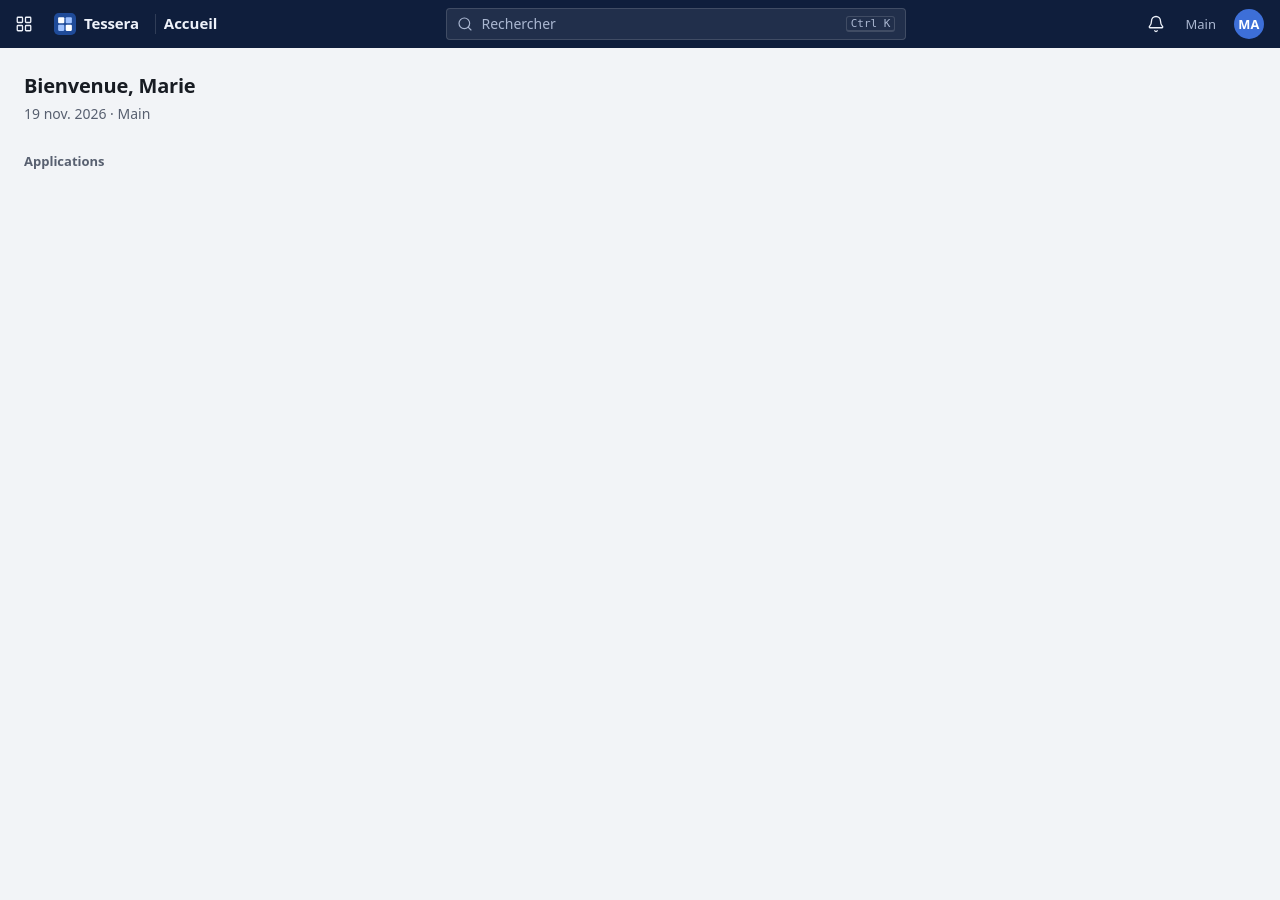
Test: French UI › switches to the session language once signed in
Check: the heading "Bienvenue, Marie" is shown, box [24, 72, 196, 100]
Click the button with aria-label "Marie" at (1249, 24), box [1226, 4, 1272, 44]
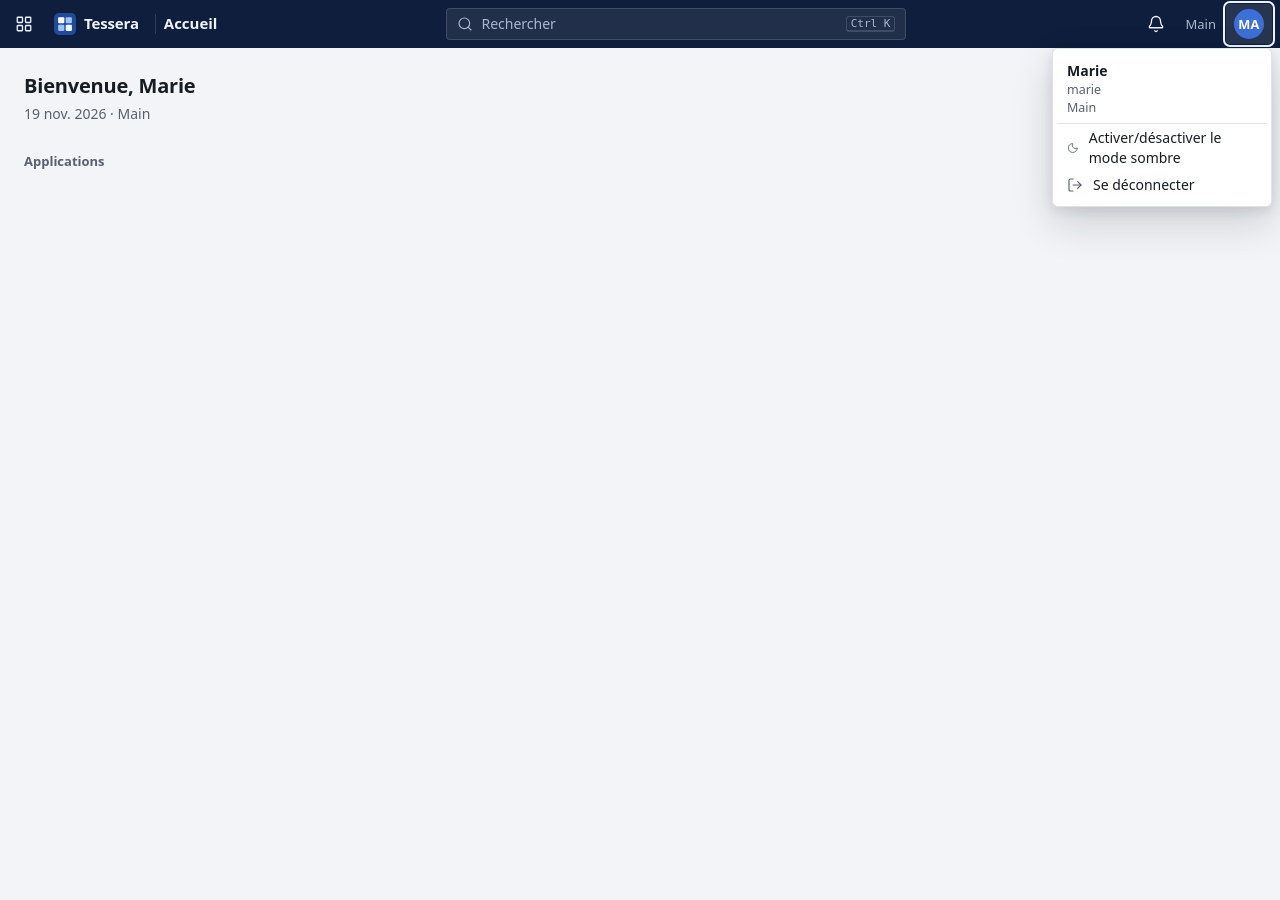
Click the menu item "Se déconnecter" at (1162, 185), box [1057, 168, 1267, 202]
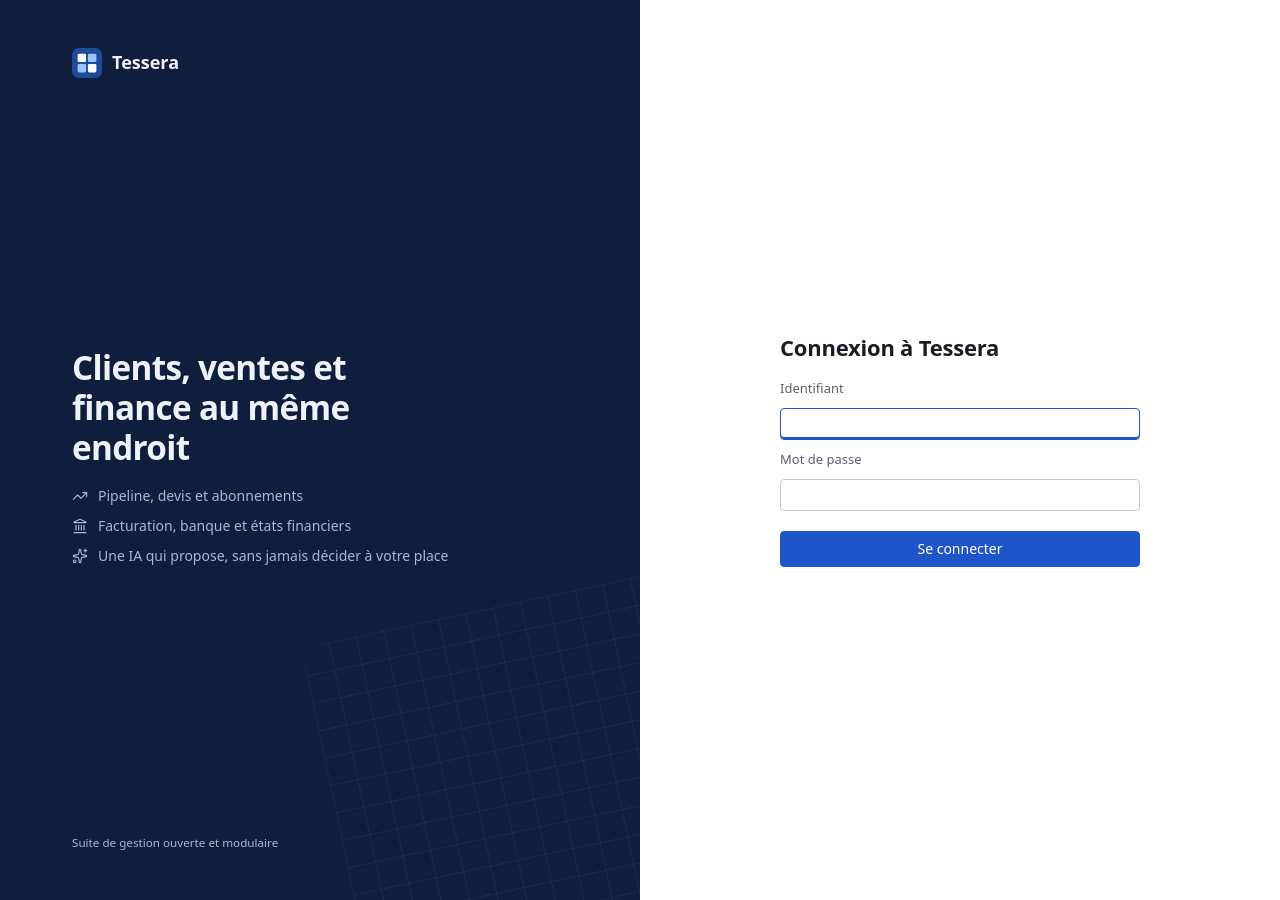
Check: the heading "Connexion à Tessera" is shown, box [780, 332, 999, 362]
Check: the password field labelled "Mot de passe" is shown, box [780, 479, 1140, 511]
Check: the button "Se connecter" is shown, box [780, 531, 1140, 567]
